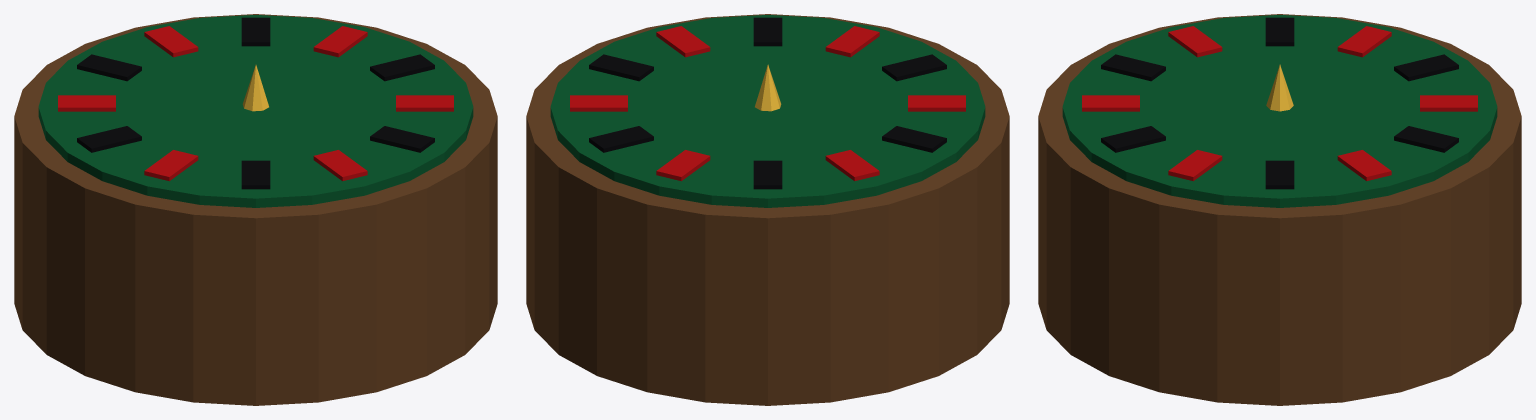
File: Prop_OR_Roulette_03.glb
3 views of the same model, side by side, from view 1: azimuth 30°, elevation 25°; view 2: azimuth 150°, elevation 25°; view 3: azimuth 270°, elevation 25° (orthographic).
Visible parts, largest first — view 1: Prop_OR_Roulette_03; view 2: Prop_OR_Roulette_03; view 3: Prop_OR_Roulette_03.
Boxes of the visible parts, x1,y1,x2,y2 form: Prop_OR_Roulette_03: [14, 14, 497, 405]; Prop_OR_Roulette_03: [526, 14, 1009, 405]; Prop_OR_Roulette_03: [1038, 14, 1521, 405].
Bounding box in the file's own units: 2.1 × 1.15 × 2.1.
